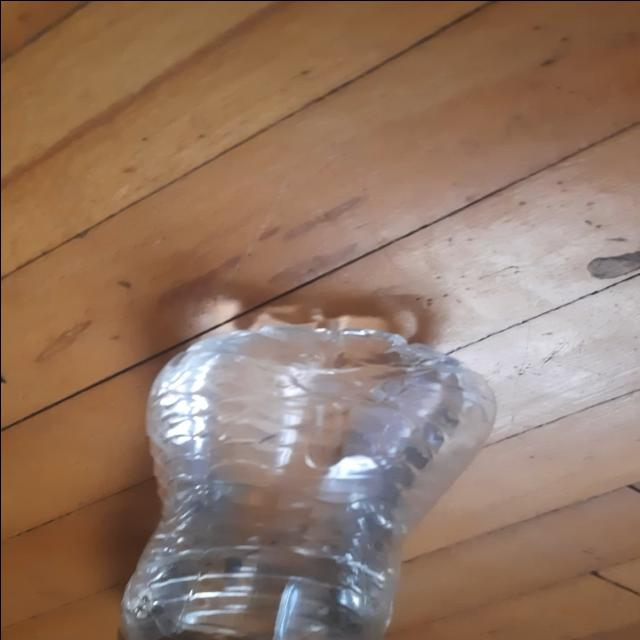Plastic: (118, 306, 497, 640)
